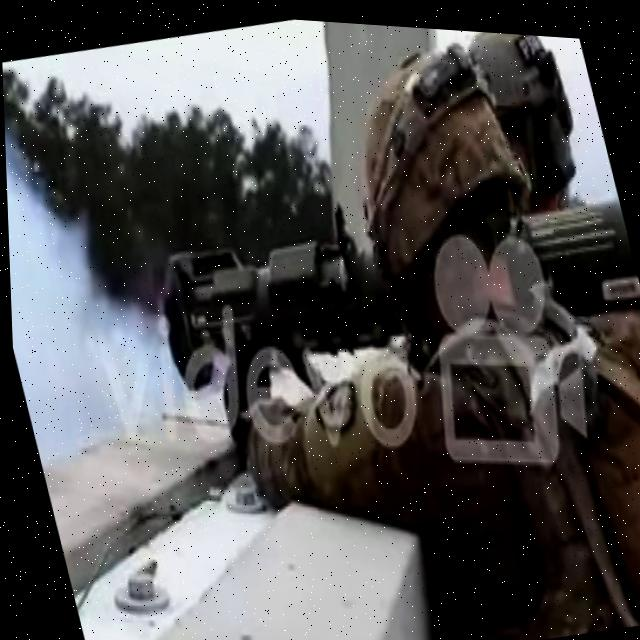rocket: (114, 85, 640, 491)
